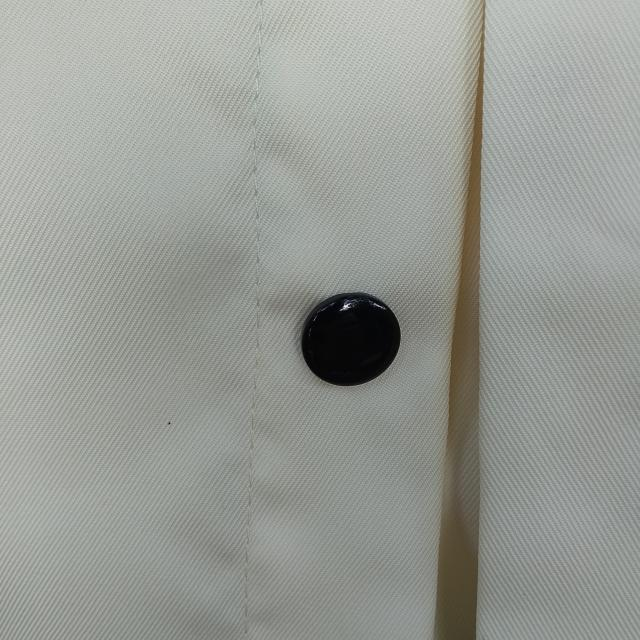education_male_uniform: (95, 135, 610, 542)
